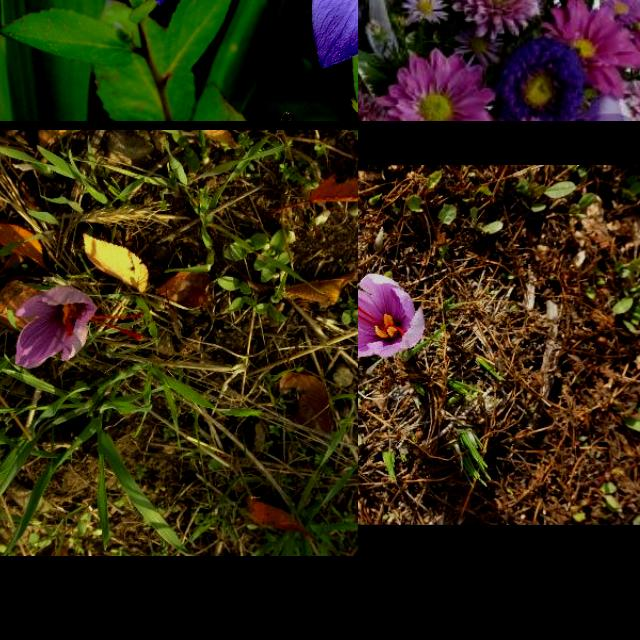flower: (14, 285, 144, 369), (358, 273, 426, 359)
